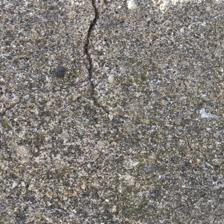Crack: (80, 3, 121, 118)
